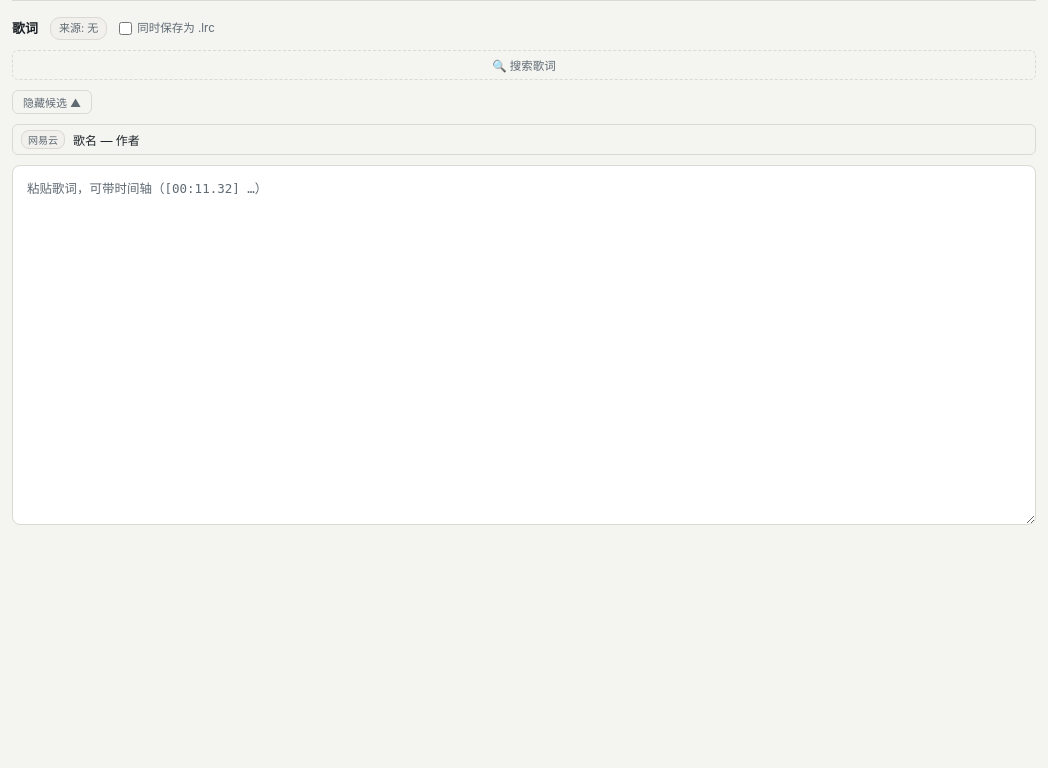
it: LyricPanel — 候选区折叠（candidate-collapse：默认展开、点击折叠、切歌后重置展开） › 点击折叠 → .cand-wrap display:none、按钮文案「展开候选 ▼」
Click the button with class "cand-toggle".
click(52, 102)  # box [12, 90, 92, 114]
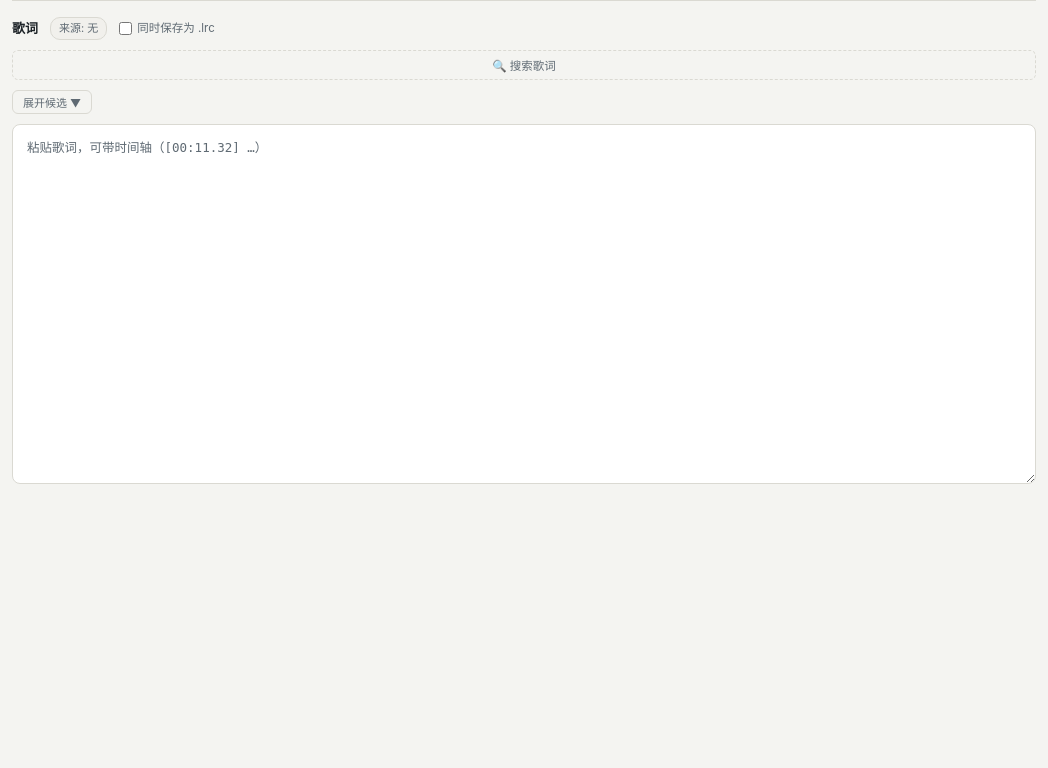
Result: the button with class "cand-toggle" shows "展开候选" at [12, 90, 92, 114]
